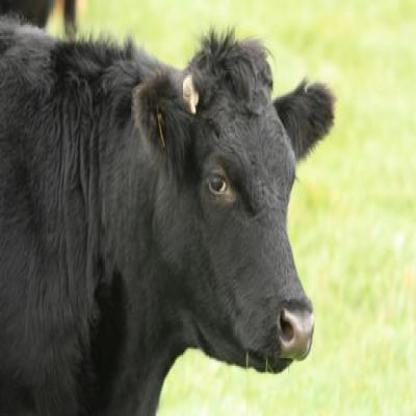lower: (267, 358, 292, 374)
mouth: (238, 305, 315, 375)
upper: (288, 324, 314, 348)
